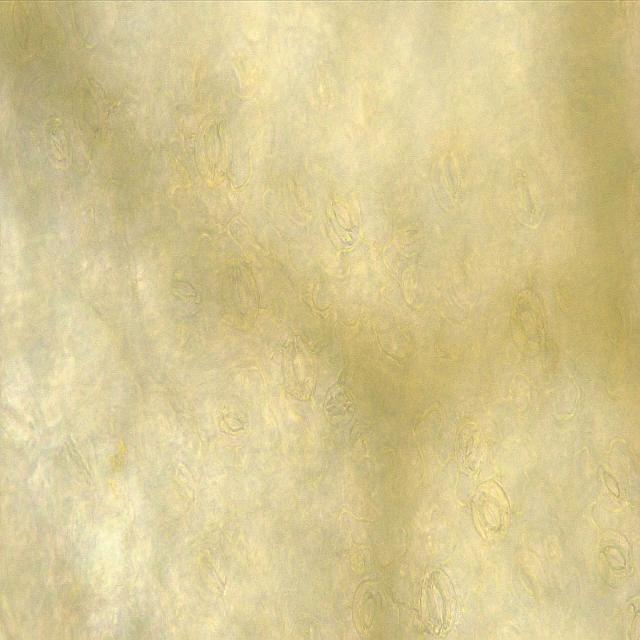Stomata: (192, 112, 235, 191), (70, 76, 110, 156), (418, 566, 459, 638), (429, 140, 468, 214), (471, 478, 512, 547), (510, 158, 548, 232), (510, 286, 548, 360), (0, 0, 44, 63), (221, 260, 261, 329), (322, 185, 362, 253), (595, 526, 635, 591), (281, 334, 317, 400), (192, 540, 229, 602), (511, 549, 547, 611), (280, 165, 315, 228), (352, 577, 386, 640), (215, 393, 252, 450), (595, 456, 631, 512), (168, 265, 206, 318), (323, 383, 358, 433), (41, 116, 72, 170), (454, 422, 485, 475)
